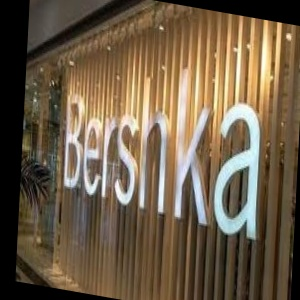bershka: (52, 184, 294, 274)
